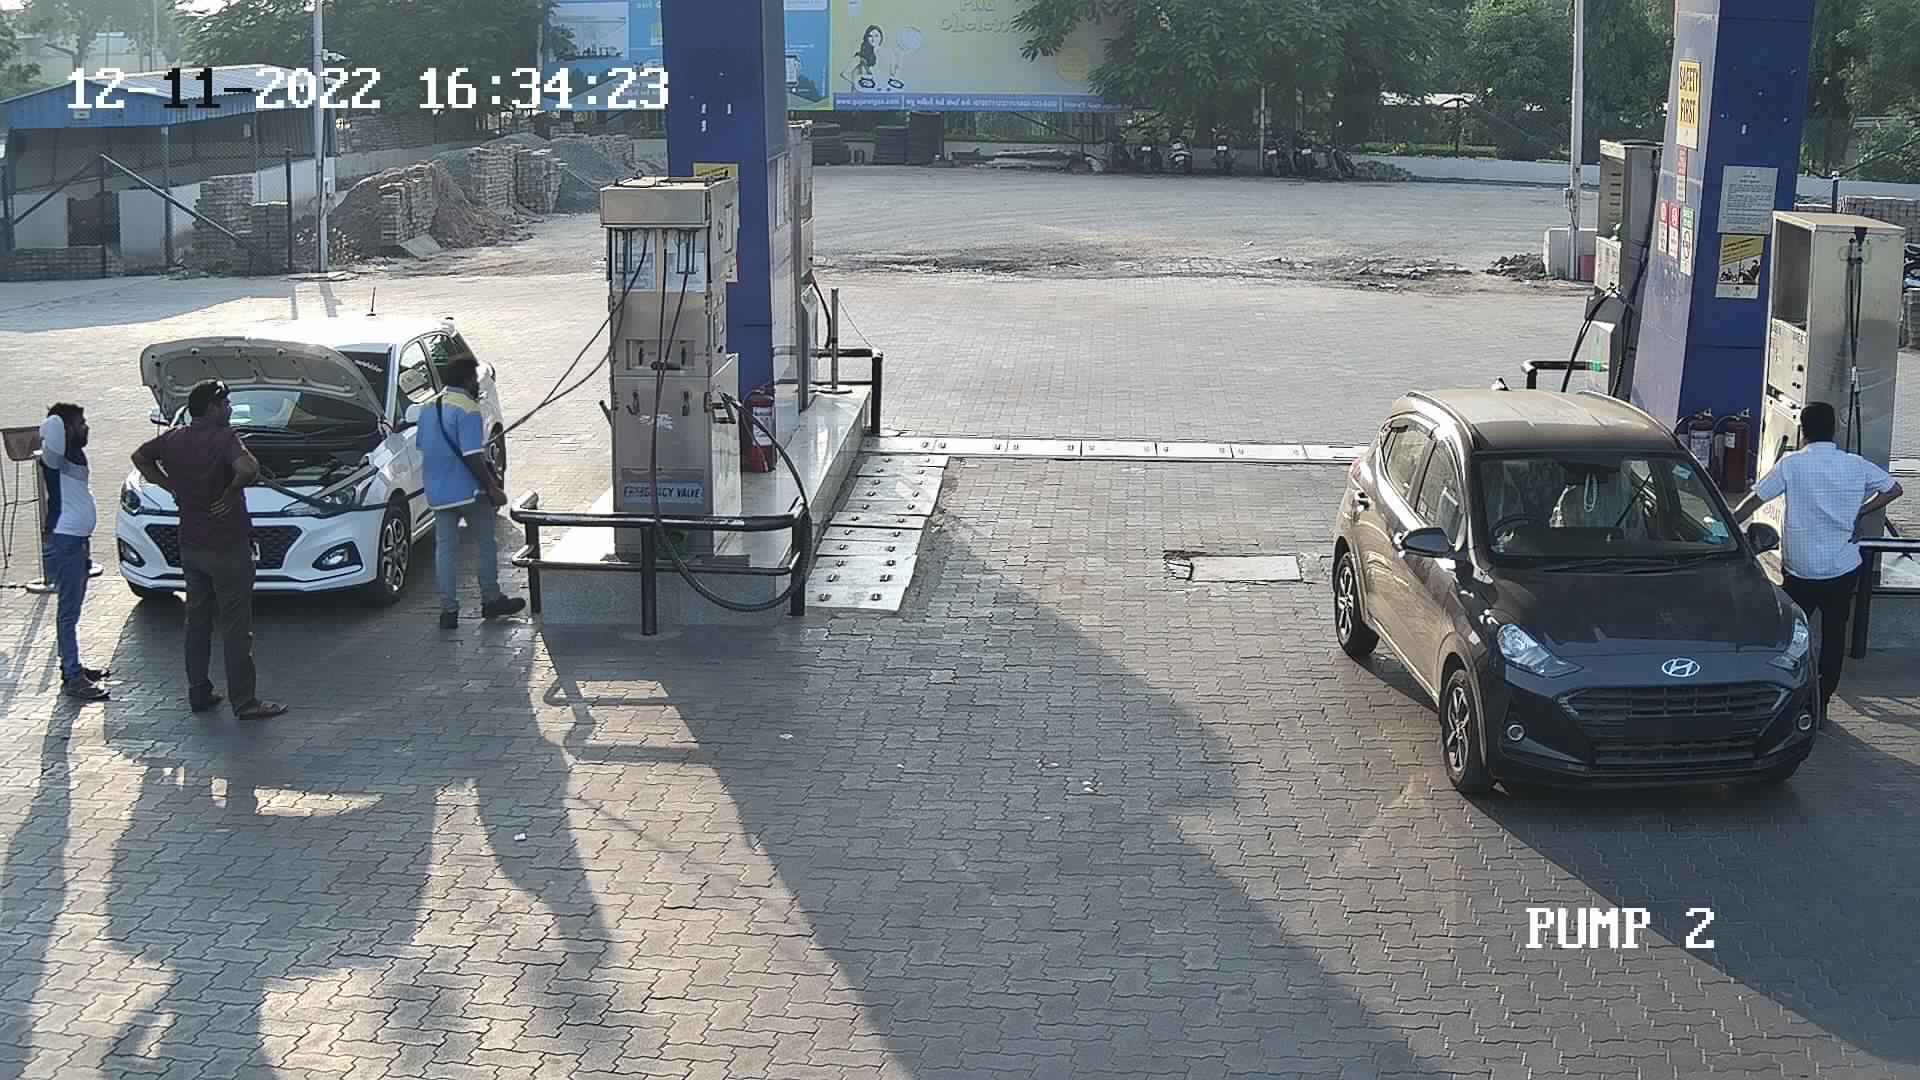Bike: (1288, 113, 1361, 185), (1124, 109, 1171, 171), (1257, 113, 1298, 185), (1282, 111, 1321, 179), (1156, 113, 1203, 171), (1207, 113, 1247, 175)
Car: (1312, 368, 1838, 811), (104, 302, 516, 626)
Others: (404, 347, 529, 629)
